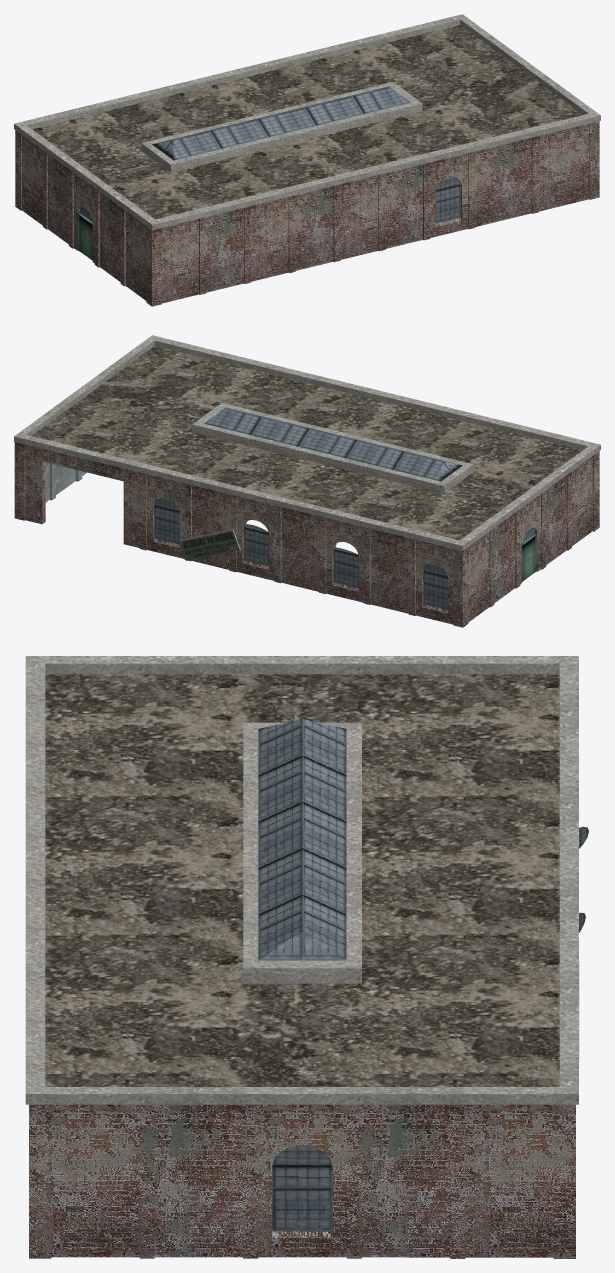
Rendered from burgalrystore_sfs.obj.
3 renders of one model, top to bottom at view 1: azimuth 30°, elevation 25°; view 2: azimuth 150°, elevation 25°; view 3: azimuth 270°, elevation 25°, orthographic. The views are drawn at different scales.
Visible parts, largest first — view 1: burgalrystore_SFS; view 2: burgalrystore_SFS; view 3: burgalrystore_SFS.
Boxes of the visible parts, x1,y1,x2,y2 form: burgalrystore_SFS: (14,14,600,306); burgalrystore_SFS: (14,335,600,627); burgalrystore_SFS: (25,656,588,1258).
Size of the model in its own units: 32.39 by 6.55 by 17.61.
Materials: 9 (9 with a texture image).
